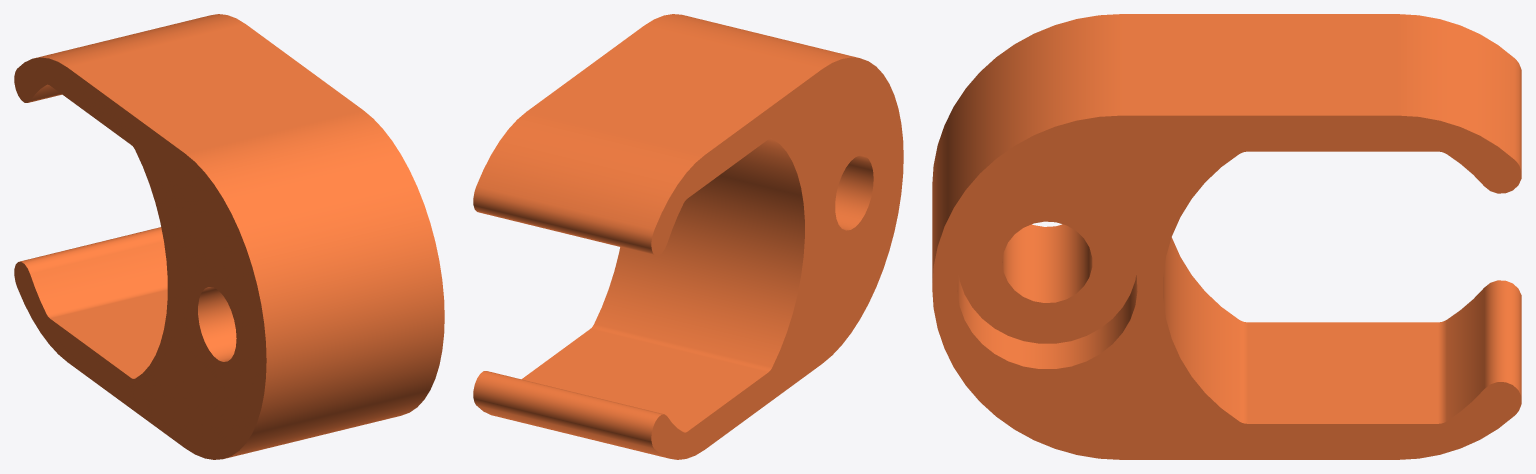
The model's file is XYZ Stage V5_X Stage Motor Clamp V5.obj.
3 views of the same model, side by side, from view 1: azimuth 30°, elevation 25°; view 2: azimuth 150°, elevation 25°; view 3: azimuth 270°, elevation 25° (orthographic). The views are drawn at different scales.
Visible parts, largest first — view 1: Solid1:12; view 2: Solid1:12; view 3: Solid1:12.
Boxes of the visible parts, box(x1,y1,x2,y2) form: Solid1:12: box(14, 14, 444, 459); Solid1:12: box(473, 14, 903, 459); Solid1:12: box(932, 14, 1521, 459).
Bounding box in the file's own units: 8 × 12.65 × 19.63.
